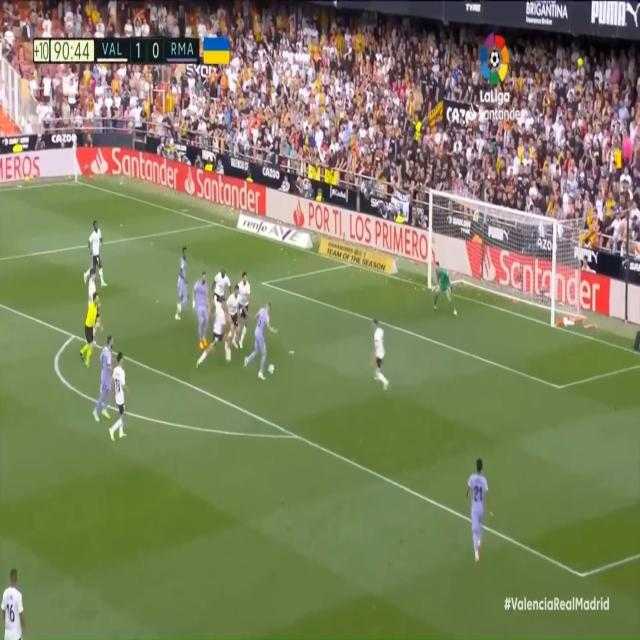ball: (268, 356, 278, 380)
goalkeeper: (433, 260, 461, 320)
player: (468, 455, 494, 565), (242, 297, 272, 381), (92, 332, 118, 425), (197, 298, 230, 369), (109, 345, 132, 446), (0, 562, 27, 640), (370, 318, 391, 392), (192, 272, 212, 349), (84, 218, 107, 280), (173, 247, 190, 322), (212, 267, 235, 320), (239, 271, 253, 345), (228, 280, 242, 349), (87, 266, 99, 324)
referee: (78, 292, 102, 370)
